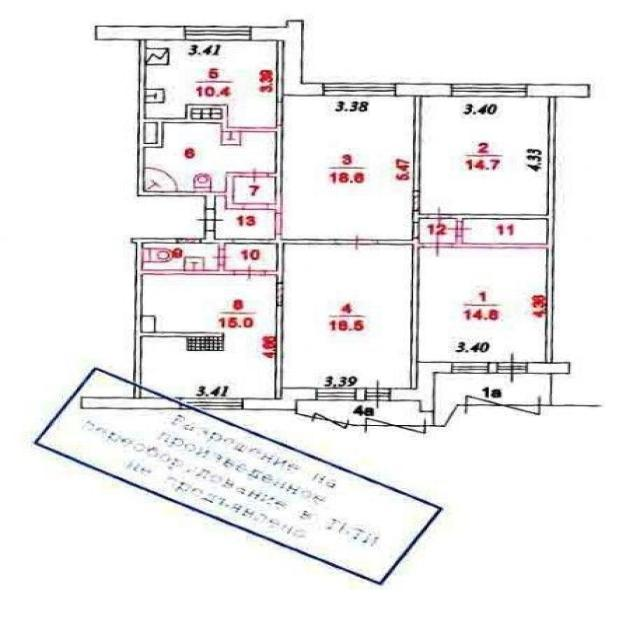Bathrooms: (146, 124, 275, 191), (145, 245, 216, 269)
Corridors: (216, 197, 274, 238), (464, 221, 545, 242), (227, 245, 275, 270), (235, 178, 274, 203), (422, 220, 456, 241)
Doors: (497, 351, 527, 384), (366, 378, 391, 411), (336, 233, 377, 251), (193, 209, 225, 230), (425, 234, 452, 258), (233, 263, 265, 281), (427, 205, 452, 227), (446, 219, 473, 237), (242, 166, 268, 183), (211, 249, 232, 265), (276, 282, 284, 306), (412, 190, 420, 212), (274, 213, 282, 235), (276, 103, 283, 125), (246, 203, 268, 210), (412, 221, 419, 238)
LBwalls: (250, 27, 323, 97), (391, 362, 451, 401), (243, 387, 315, 410), (95, 25, 184, 40), (81, 397, 178, 410), (528, 83, 591, 97), (397, 83, 451, 96), (526, 361, 571, 374), (356, 388, 366, 401), (489, 362, 497, 374)
Offices: (285, 97, 411, 238), (286, 245, 409, 386), (143, 275, 275, 398), (423, 98, 546, 214), (421, 249, 544, 361), (147, 41, 276, 127)
Walls: (130, 231, 336, 398), (452, 97, 557, 363), (137, 41, 282, 213), (376, 238, 425, 389), (275, 306, 282, 399), (413, 97, 420, 189), (277, 41, 283, 103), (420, 401, 435, 413), (411, 211, 427, 222), (286, 20, 304, 26)
Windows: (322, 82, 397, 97), (451, 83, 528, 97), (185, 26, 251, 41), (179, 397, 244, 410), (315, 387, 356, 401), (450, 362, 488, 374)
